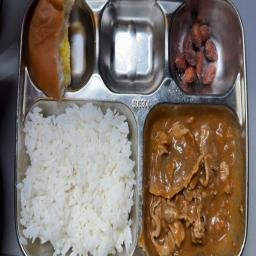100_beef: (143, 106, 246, 254)
100_rice: (23, 102, 135, 254)
50_bread: (26, 2, 94, 95)
50_nuts: (172, 9, 232, 94)
empty: (99, 7, 165, 93)
